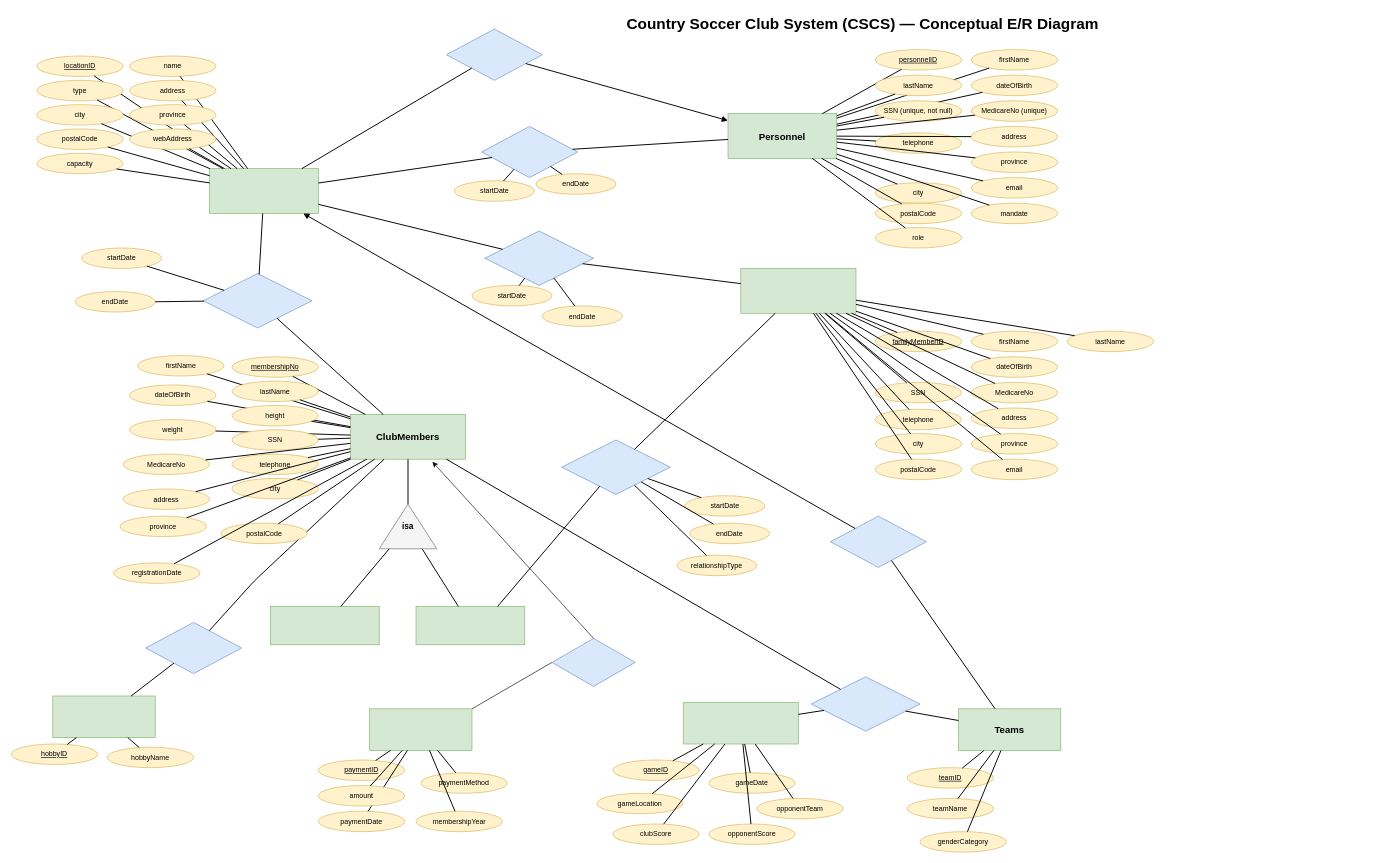
Some shapes in this 1386 by 863 pixel diagram are drawn without their labels. The centre of each missing label's shape, as x and y in pixels:
"BasedAt" goes at point 878,541.
"FamilyAssignment" goes at point 539,257.
"FamilyMembers" goes at point 798,290.
"FIFA_Games" goes at point 740,723.
"HasHobby" goes at point 193,648.
"Hobbies" goes at point 103,716.
"Locations" goes at point 263,190.
"MajorMembers" goes at point 324,625.
"Makes" goes at point 593,662.
"Manages" goes at point 494,54.
"MemberAssignment" goes at point 257,300.
"MinorMembers" goes at point 470,625.
"ParticipatesIn" goes at point 865,703.
"Payments" goes at point 420,729.
"ResponsibleFor" goes at point 615,466.
"WorksAt" goes at point 529,152.
